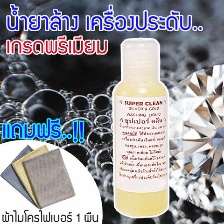cleaning_solution: (111, 35, 171, 219)
